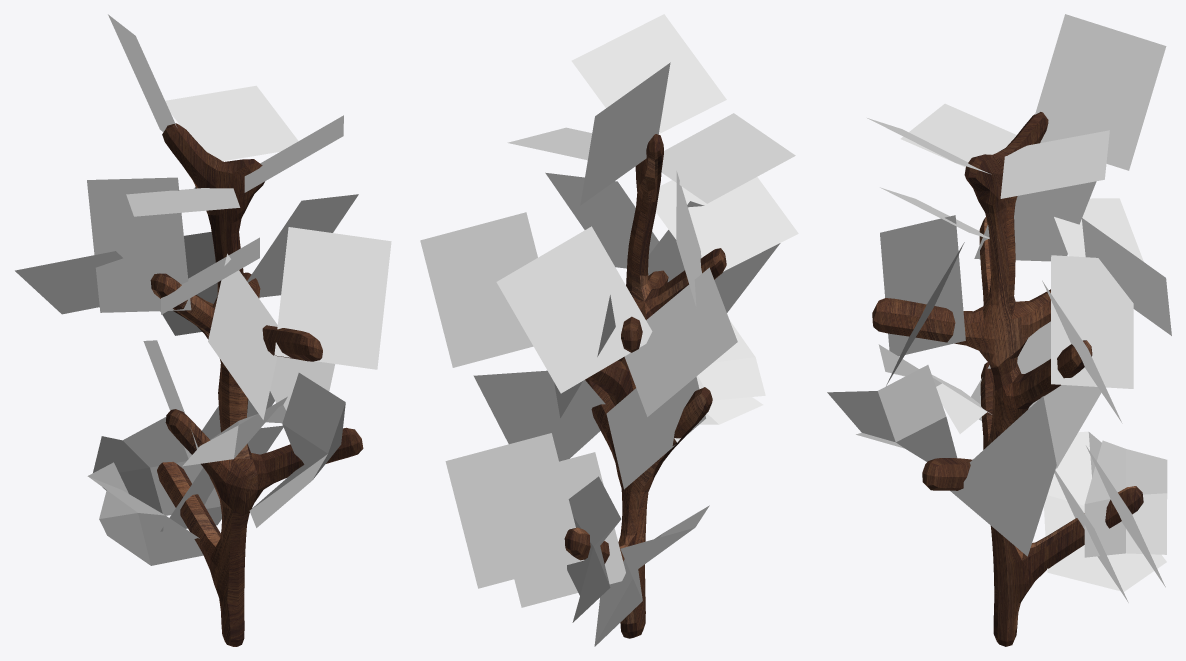
The model's file is SimpleTreeBranched.fbx.
The picture shows the model from 3 angles, left to right: view 1: azimuth 30°, elevation 25°; view 2: azimuth 150°, elevation 25°; view 3: azimuth 270°, elevation 25°; orthographic projection. The views are drawn at different scales.
Visible parts, largest first — view 1: Cube; view 2: Cube; view 3: Cube.
Part boxes in pixels (x1,y1,x2,y2): Cube: (15,14,391,646); Cube: (420,14,798,646); Cube: (827,14,1171,646).
Size of the model in its own units: 508 by 894 by 467.
